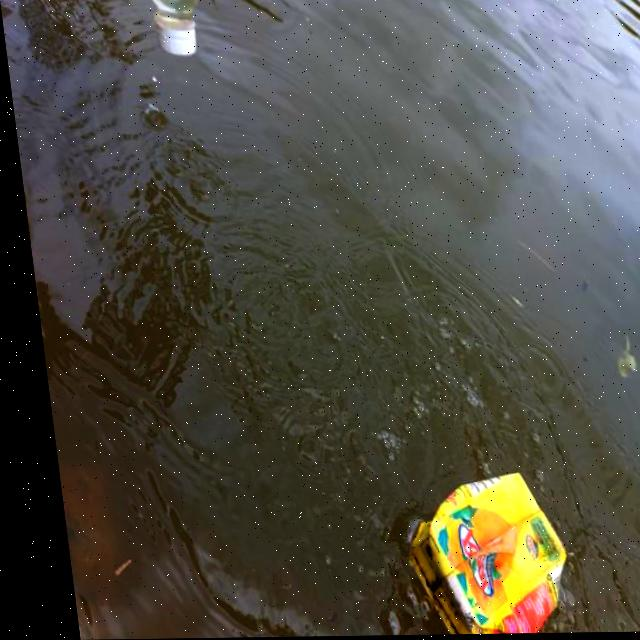paper: (354, 455, 571, 636)
waterbottle: (138, 0, 224, 69)
